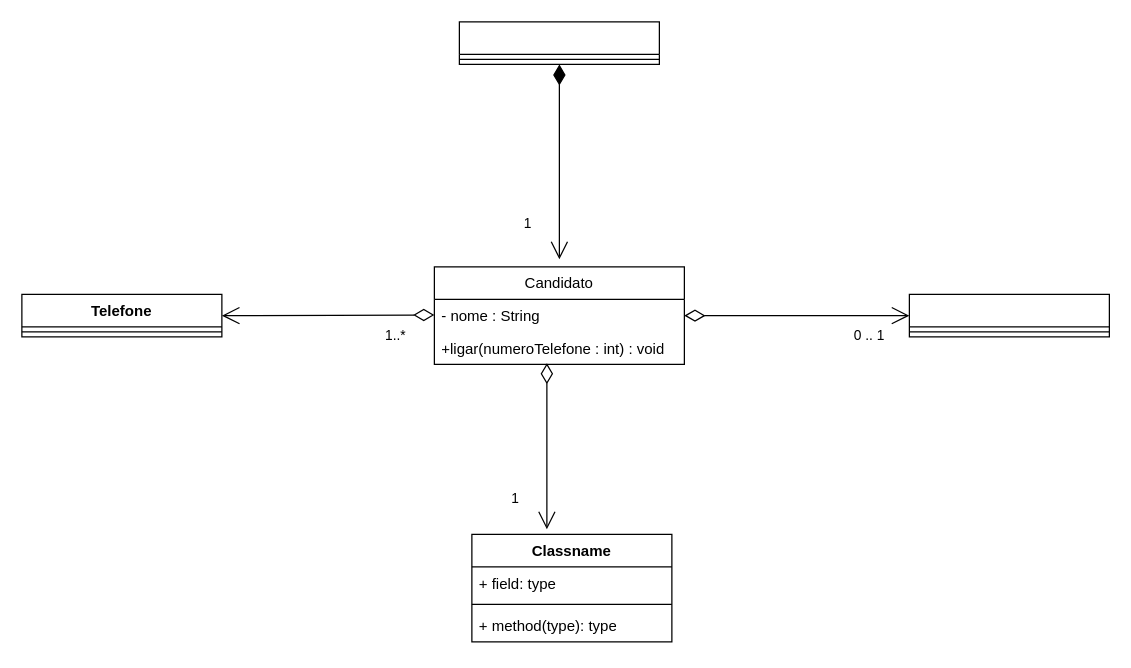
The diagram is 1131 pixels wide and 668 high, and some of its shapes have lost their labels. The shapes that lost their labels are listed below. From the top down, each one's box as (x1, y1, x2, y2) in pixels, then its label:
(458, 21, 659, 64): Admissao
(908, 293, 1109, 337): Profissao
